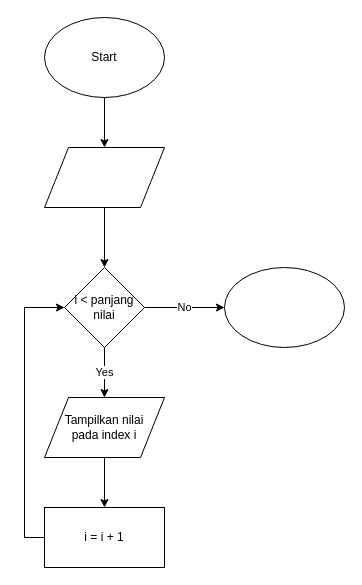
The diagram is 362 pixels wide and 585 high, and some of its shapes have lost their labels. The centre of each missing label's shape, as x and y in pixels:
array nilai[], i = 0: point (104, 177)
End: point (284, 307)
